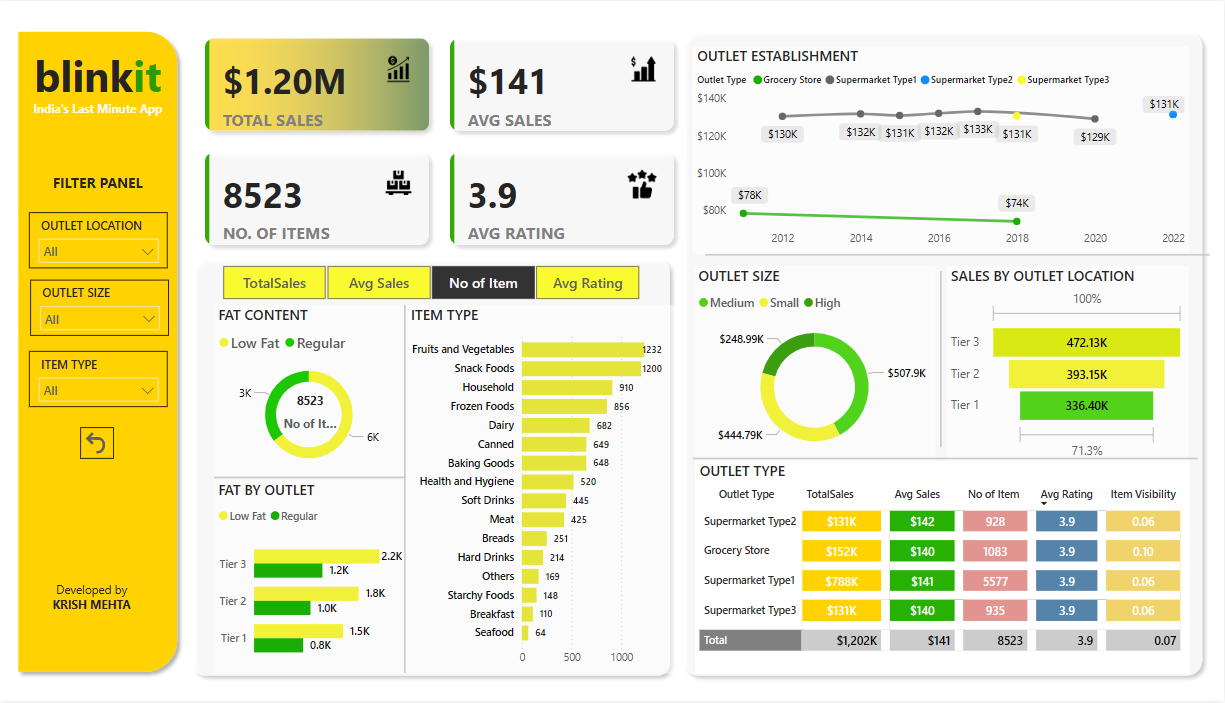

Layout of this report page (visuals, bound fields, positions):
{"tool":"powerbi","page":{"name":"Page 1","canvas":[1400,800],"ordinal":0},"visuals":[{"type":"shape","box":[13.3,25,200,750],"z":0},{"type":"textbox","box":[13.3,46.7,200,95],"z":1000},{"type":"textbox","box":[13.3,108.3,200,33.3],"z":2000},{"type":"cardVisual","fields":{"Data":["BlinkIT Grocery Data.Total Sales","BlinkIT Grocery Data.Avg Sales","BlinkIT Grocery Data.No of Item","BlinkIT Grocery Data.Avg Rating"]},"box":[218.3,25,570,270],"z":3000},{"type":"shape","box":[212.9,285.7,562.9,494.3],"z":4000},{"type":"slicer","fields":{"Values":["Matric.Matric"]},"box":[230,295.7,525.7,51.4],"z":5000},{"type":"donutChart","title":"FAT CONTENT","fields":{"Y":["BlinkIT Grocery Data.TotalSales"],"Category":["BlinkIT Grocery Data.Item Fat Content"]},"box":[245.6,347.2,217.2,197.8],"z":6000},{"type":"card","fields":{"Values":["BlinkIT Grocery Data.TotalSales"]},"box":[317.1,442.9,77.1,51.4],"z":7000},{"type":"clusteredBarChart","title":"FAT BY OUTLET","fields":{"Y":["BlinkIT Grocery Data.TotalSales"],"Category":["BlinkIT Grocery Data.Outlet Location Type"],"Series":["BlinkIT Grocery Data.Item Fat Content"]},"box":[245.7,547.1,220,221.4],"z":8000},{"type":"shape","box":[245.6,523.3,217.2,43.3],"z":9000},{"type":"shape","box":[456.7,346.7,13.3,420.8],"z":10000},{"type":"barChart","title":"ITEM TYPE","fields":{"Y":["BlinkIT Grocery Data.TotalSales"],"Category":["BlinkIT Grocery Data.Item Type"]},"box":[465.8,346.7,310,421.7],"z":11000},{"type":"shape","box":[772.9,25.7,611.4,754.3],"z":12000},{"type":"lineChart","title":"OUTLET ESTABLISHMENT","fields":{"Category":["BlinkIT Grocery Data.Outlet Establishment Year"],"Y":["BlinkIT Grocery Data.TotalSales"],"Series":["BlinkIT Grocery Data.Outlet Type"]},"box":[792.9,51.4,567.1,238.6],"z":13000},{"type":"shape","box":[807.1,277.1,577.1,25.7],"z":14000},{"type":"donutChart","title":"SALES BY OUTLET SIZE","fields":{"Category":["BlinkIT Grocery Data.Outlet Size"],"Y":["BlinkIT Grocery Data.TotalSales"]},"box":[794.3,302.9,275.7,225.7],"z":15000},{"type":"shape","box":[1070,308.6,12.9,201.4],"z":16000},{"type":"funnel","title":"SALES BY OUTLET LOCATION ","fields":{"Category":["BlinkIT Grocery Data.Outlet Location Type"],"Y":["Sum(BlinkIT Grocery Data.Sales)"]},"box":[1082.9,302.9,277.1,225.7],"z":17000},{"type":"shape","box":[792.9,510,577.1,25.7],"z":18000},{"type":"pivotTable","title":"OUTLET TYPE","fields":{"Rows":["BlinkIT Grocery Data.Outlet Type"],"Values":["BlinkIT Grocery Data.TotalSales","BlinkIT Grocery Data.Avg Sales","BlinkIT Grocery Data.No of Item","BlinkIT Grocery Data.Avg Rating","Avg(BlinkIT Grocery Data.Item Visibility)"]},"box":[795,525,565,243.3],"z":19000},{"type":"slicer","fields":{"Values":["BlinkIT Grocery Data.Outlet Location Type"]},"box":[34,242,158.6,64.3],"z":20000},{"type":"slicer","fields":{"Values":["BlinkIT Grocery Data.Outlet Size"]},"box":[35.4,319.1,158.6,64.3],"z":21000},{"type":"slicer","fields":{"Values":["BlinkIT Grocery Data.Item Type"]},"box":[34,400.6,158.6,64.3],"z":22000},{"type":"textbox","box":[44.3,191.4,137.1,34.3],"z":23000},{"type":"textbox","box":[37.1,658.6,137.1,57.1],"z":24000},{"type":"actionButton","box":[92.9,487.1,38.6,35.7],"z":25000}]}

Visuals, with their boxes in screenshot pixels (x1, y1, x2, y2), scaled from the page's 1400x800 canvas onto the 1225x703 screenshot:
shape: rect(12, 22, 187, 681)
textbox: rect(12, 41, 187, 125)
textbox: rect(12, 95, 187, 124)
cardVisual - BlinkIT Grocery Data.Total Sales x BlinkIT Grocery Data.Avg Sales: rect(191, 22, 690, 259)
shape: rect(186, 251, 679, 685)
slicer - Matric.Matric: rect(201, 260, 661, 305)
"FAT CONTENT" donutChart: rect(215, 305, 405, 479)
card - BlinkIT Grocery Data.TotalSales: rect(277, 389, 345, 434)
"FAT BY OUTLET" clusteredBarChart: rect(215, 481, 407, 675)
shape: rect(215, 460, 405, 498)
shape: rect(400, 305, 411, 674)
"ITEM TYPE" barChart: rect(408, 305, 679, 675)
shape: rect(676, 23, 1211, 685)
"OUTLET ESTABLISHMENT" lineChart: rect(694, 45, 1190, 255)
shape: rect(706, 244, 1211, 266)
"SALES BY OUTLET SIZE" donutChart: rect(695, 266, 936, 465)
shape: rect(936, 271, 948, 448)
"SALES BY OUTLET LOCATION " funnel: rect(948, 266, 1190, 465)
shape: rect(694, 448, 1199, 471)
"OUTLET TYPE" pivotTable: rect(696, 461, 1190, 675)
slicer - BlinkIT Grocery Data.Outlet Location Type: rect(30, 213, 169, 269)
slicer - BlinkIT Grocery Data.Outlet Size: rect(31, 280, 170, 337)
slicer - BlinkIT Grocery Data.Item Type: rect(30, 352, 169, 409)
textbox: rect(39, 168, 159, 198)
textbox: rect(32, 579, 152, 629)
actionButton: rect(81, 428, 115, 459)
